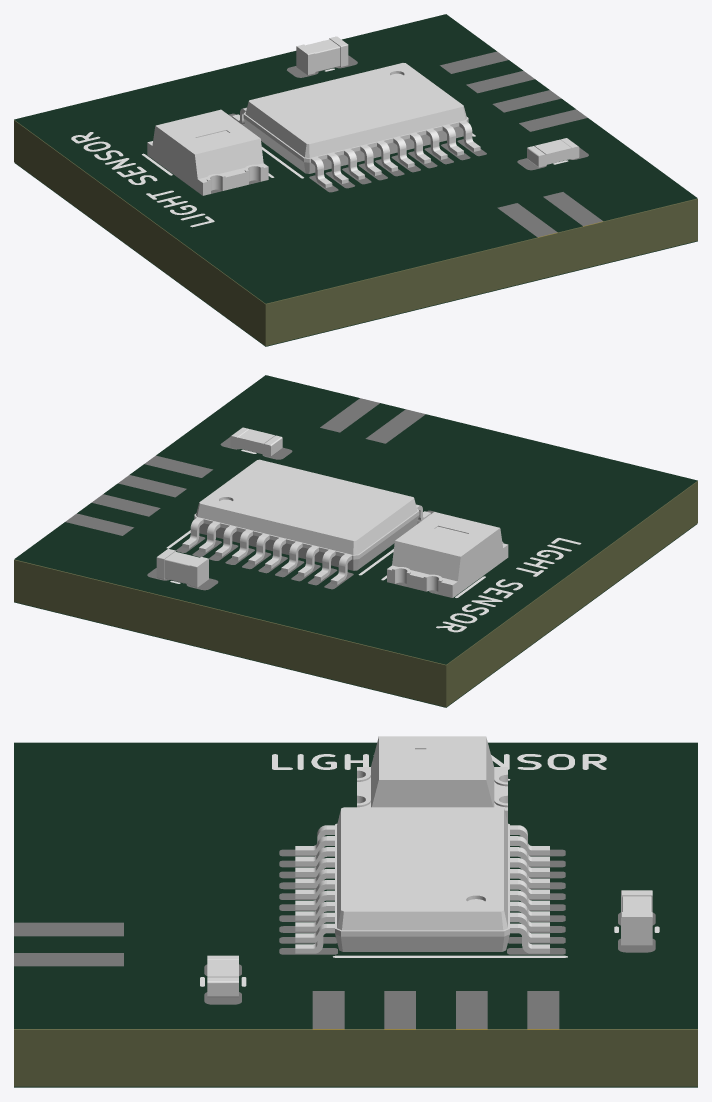
Rendered from REPLICATE_light_sensor.glb.
The picture shows the model from 3 angles, top to bottom: view 1: azimuth 30°, elevation 25°; view 2: azimuth 150°, elevation 25°; view 3: azimuth 270°, elevation 25°; orthographic projection. The views are drawn at different scales.
Parts seen in each view (by area): view 1: Face.002, Compound.009, Compound.004, Compound.002, Face.001, Face.004, Compound.006, Compound.008, Face.003; view 2: Face.002, Compound.009, Compound.004, Compound.002, Face.001, Face.004, Compound.006, Compound.008, Face.003; view 3: Face.002, Compound.009, Compound.004, Face.001, Compound.002, Face.004, Compound.006, Compound.008, Face.003.
Boxes of the visible parts, box(x1,y1,x2,y2) form: Face.002: box(14, 14, 697, 303); Compound.009: box(14, 120, 697, 345); Compound.004: box(232, 63, 480, 187); Compound.002: box(147, 109, 268, 195); Face.001: box(211, 51, 602, 237); Face.004: box(71, 68, 568, 227); Compound.006: box(296, 36, 348, 75); Compound.008: box(527, 138, 579, 167); Face.003: box(14, 162, 697, 346); Face.002: box(14, 375, 697, 664); Compound.009: box(14, 481, 697, 706); Compound.004: box(182, 459, 430, 584); Compound.002: box(387, 512, 508, 597); Face.001: box(65, 398, 438, 594); Face.004: box(166, 449, 581, 632); Compound.006: box(156, 548, 208, 587); Compound.008: box(230, 427, 282, 456); Face.003: box(14, 523, 697, 707); Face.002: box(14, 742, 697, 1028); Compound.009: box(14, 1029, 697, 1086); Compound.004: box(295, 807, 549, 953); Face.001: box(14, 849, 655, 1028); Compound.002: box(357, 736, 507, 822); Face.004: box(200, 754, 659, 986); Compound.006: box(621, 890, 652, 945); Compound.008: box(207, 955, 238, 997); Face.003: box(14, 1086, 697, 1087).
Size of the model in its own units: 17.05 by 2.96 by 17.2.
